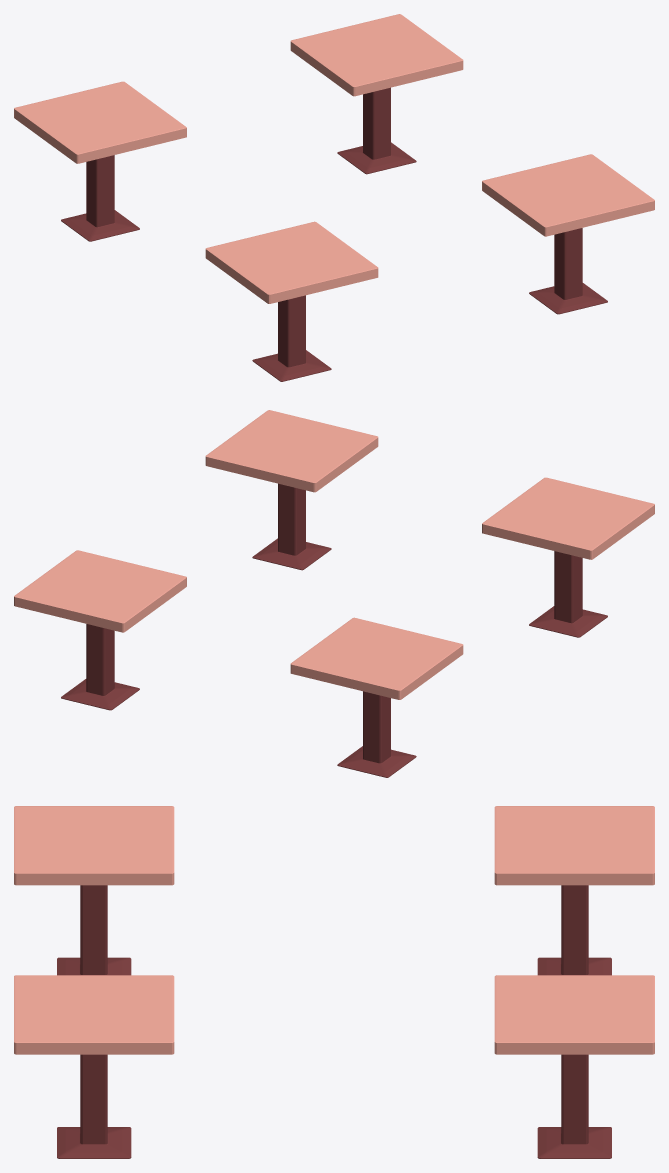
The model's file is masa.fbx.
3 renders of one model, top to bottom at view 1: azimuth 30°, elevation 25°; view 2: azimuth 150°, elevation 25°; view 3: azimuth 270°, elevation 25°, orthographic. The views are drawn at different scales.
Visible parts, largest first — view 1: masa_3, masa_1, masa_2, masa_4; view 2: masa_2, masa_4, masa_3, masa_1; view 3: masa_2, masa_3, masa_1, masa_4.
Boxes of the visible parts, x1=… form: masa_3: x1=482, y1=154, x2=654, y2=314; masa_1: x1=14, y1=81, x2=186, y2=241; masa_2: x1=290, y1=14, x2=463, y2=174; masa_4: x1=205, y1=221, x2=378, y2=381; masa_2: x1=14, y1=550, x2=186, y2=710; masa_4: x1=482, y1=477, x2=654, y2=637; masa_3: x1=205, y1=410, x2=378, y2=570; masa_1: x1=290, y1=617, x2=463, y2=777; masa_2: x1=494, y1=975, x2=654, y2=1158; masa_3: x1=14, y1=975, x2=174, y2=1158; masa_1: x1=494, y1=806, x2=654, y2=975; masa_4: x1=14, y1=806, x2=174, y2=975.
Bounding box in the file's own units: 323 × 86.51 × 369.
